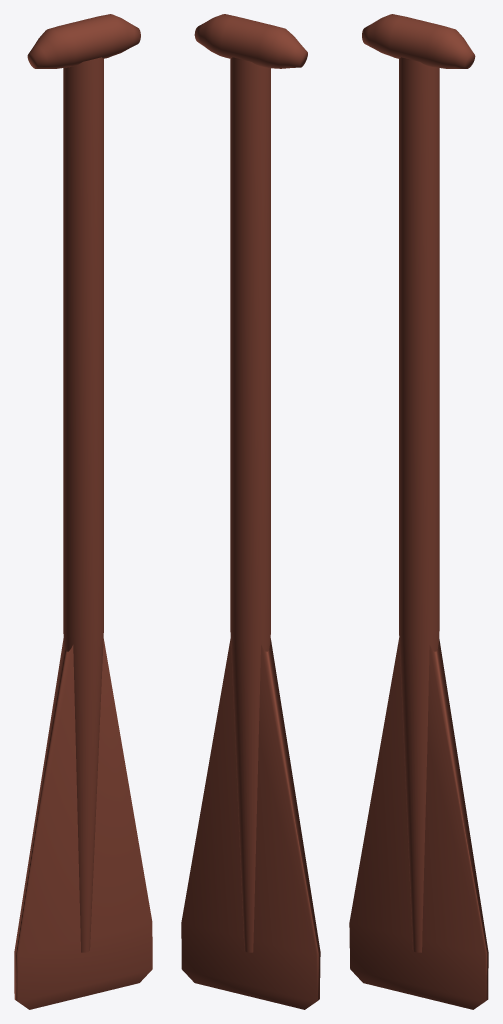
Rendered from paddle.fbx.
The picture shows the model from 3 angles, left to right: view 1: azimuth 30°, elevation 25°; view 2: azimuth 150°, elevation 25°; view 3: azimuth 330°, elevation 25°; orthographic projection.
Parts seen in each view (by area): view 1: Cylinder, Cube, Cylinder.001; view 2: Cylinder, Cube, Cylinder.001; view 3: Cylinder, Cube, Cylinder.001.
Part boxes in pixels (x1,y1,x2,y2): Cylinder: [63, 57, 103, 952]; Cube: [14, 638, 152, 1009]; Cylinder.001: [27, 14, 140, 68]; Cylinder: [230, 57, 270, 952]; Cube: [181, 638, 320, 1009]; Cylinder.001: [194, 14, 307, 68]; Cylinder: [399, 57, 439, 952]; Cube: [349, 638, 488, 1009]; Cylinder.001: [362, 14, 475, 68].
Bounding box in the file's own units: 292 × 2017 × 80.43.
